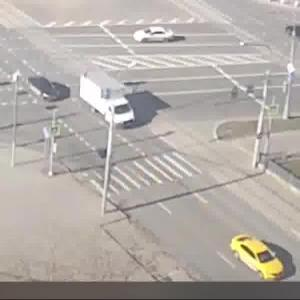car: (83, 70, 140, 130), (229, 231, 289, 284), (19, 72, 74, 104), (131, 18, 179, 44)
